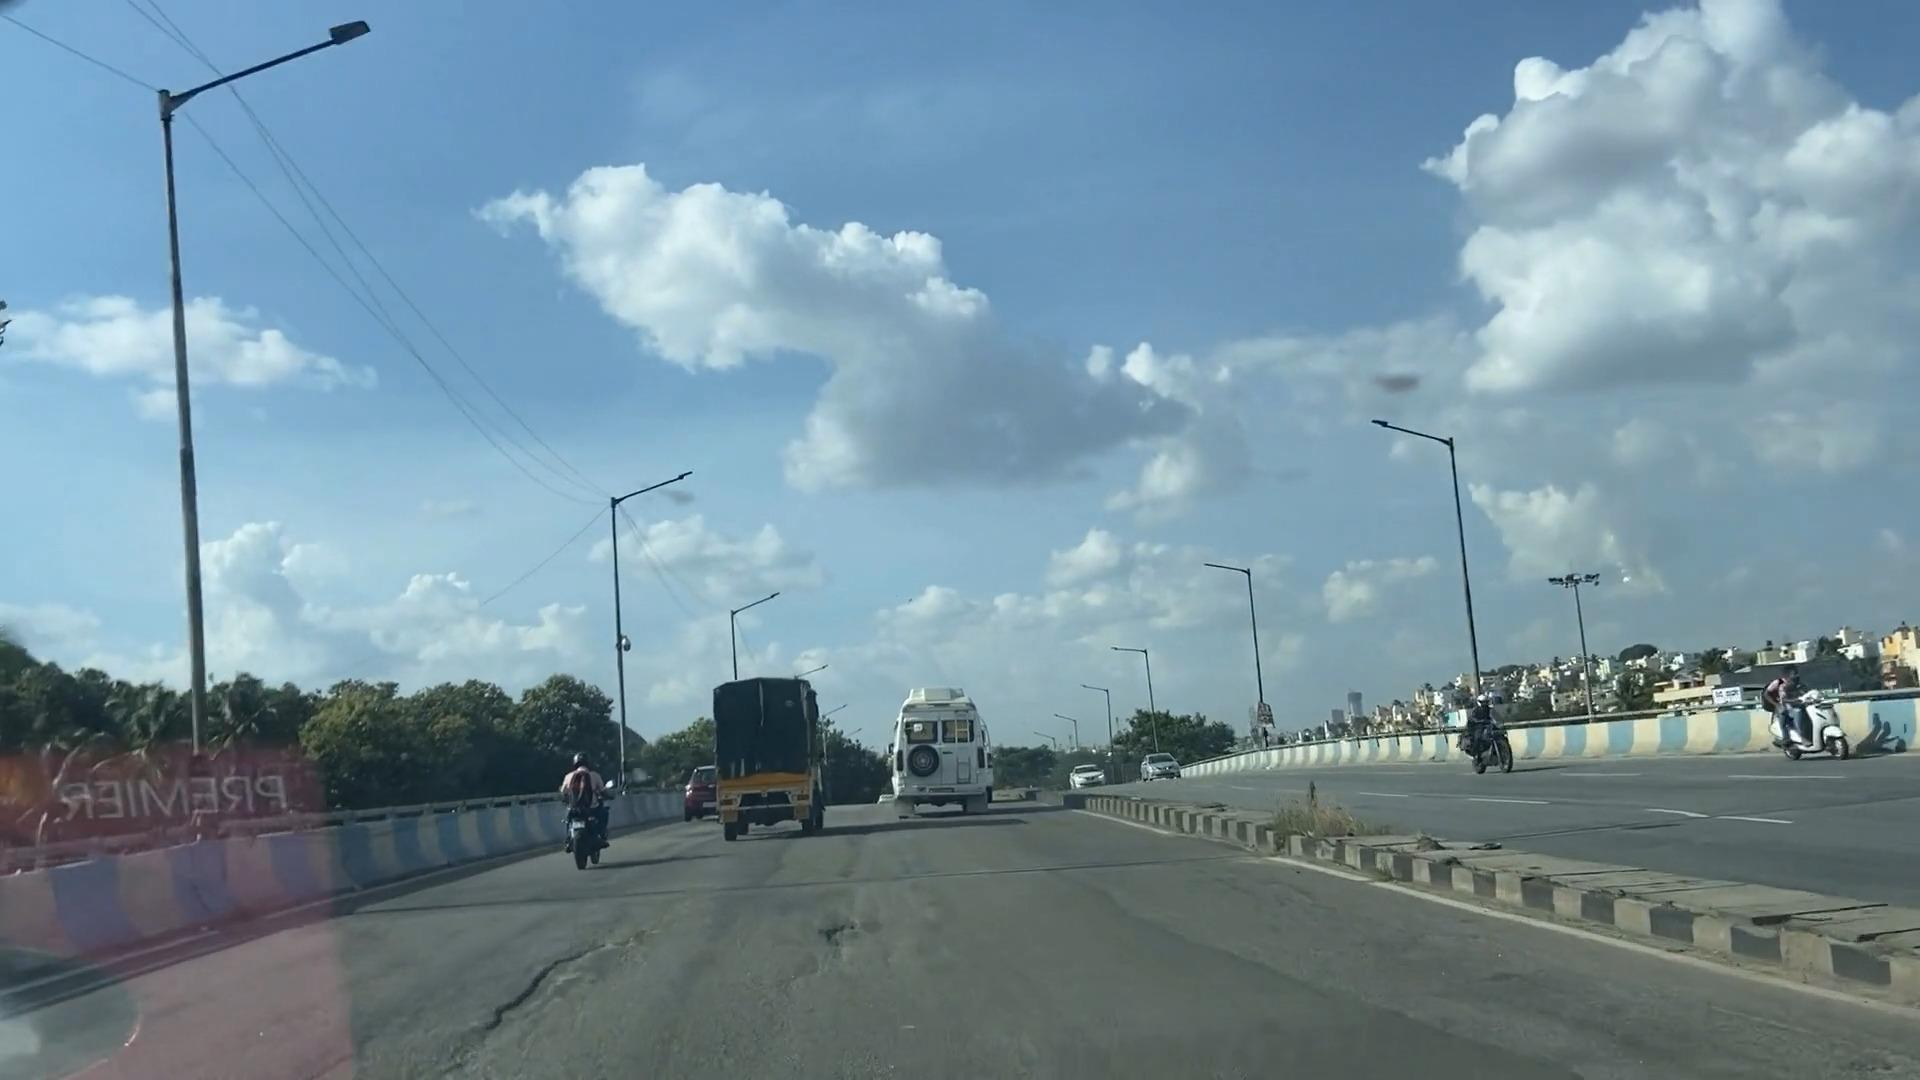HMV: (694, 658, 833, 826), (900, 686, 995, 826)
LMV: (534, 766, 633, 856)
RoadDamages: (504, 894, 667, 1080), (814, 870, 908, 991)
